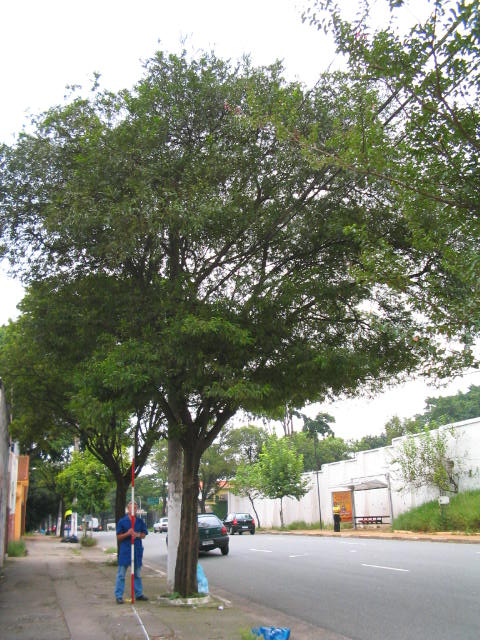crown: (4, 38, 477, 433)
stem: (168, 452, 209, 597)
stick: (125, 458, 141, 602)
tree: (2, 35, 478, 598)
